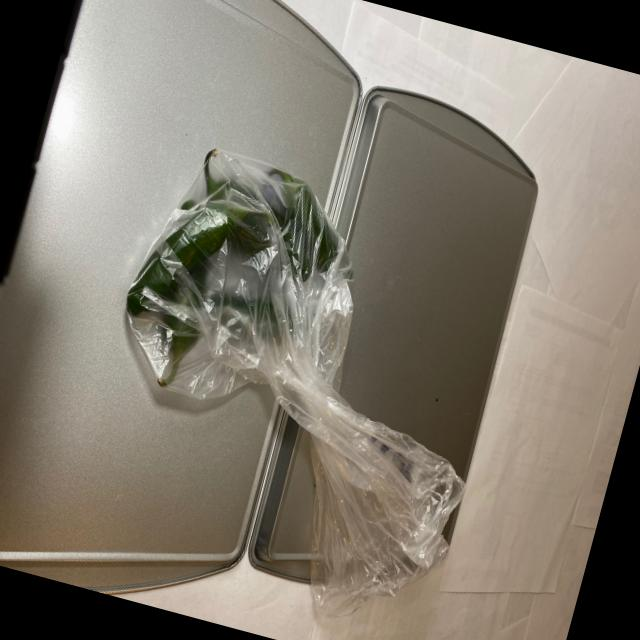chilli: (105, 133, 368, 430)
